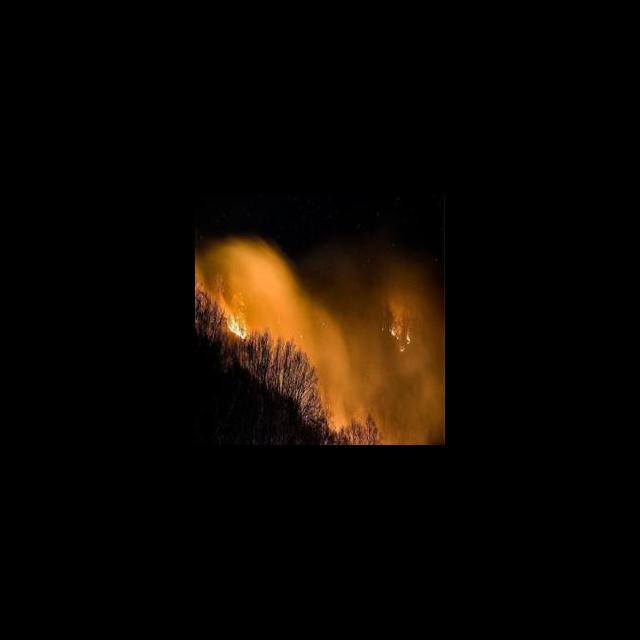Fire: (195, 268, 254, 348), (374, 314, 417, 354)
